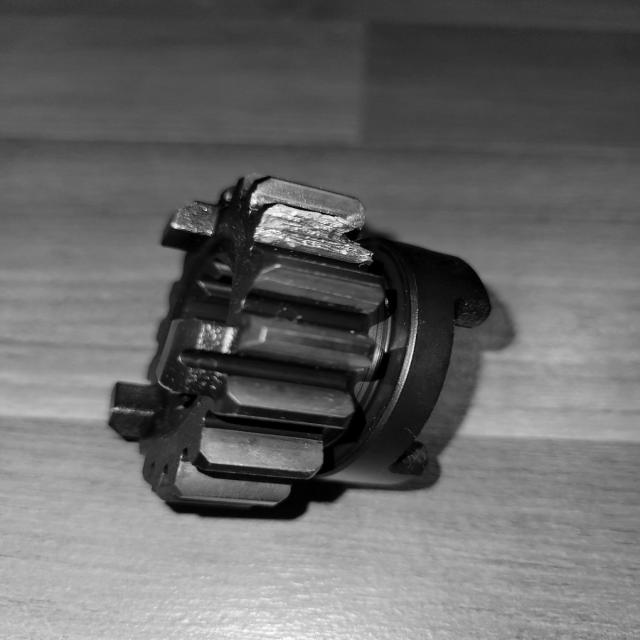Fault-Exist: (242, 179, 379, 294)
